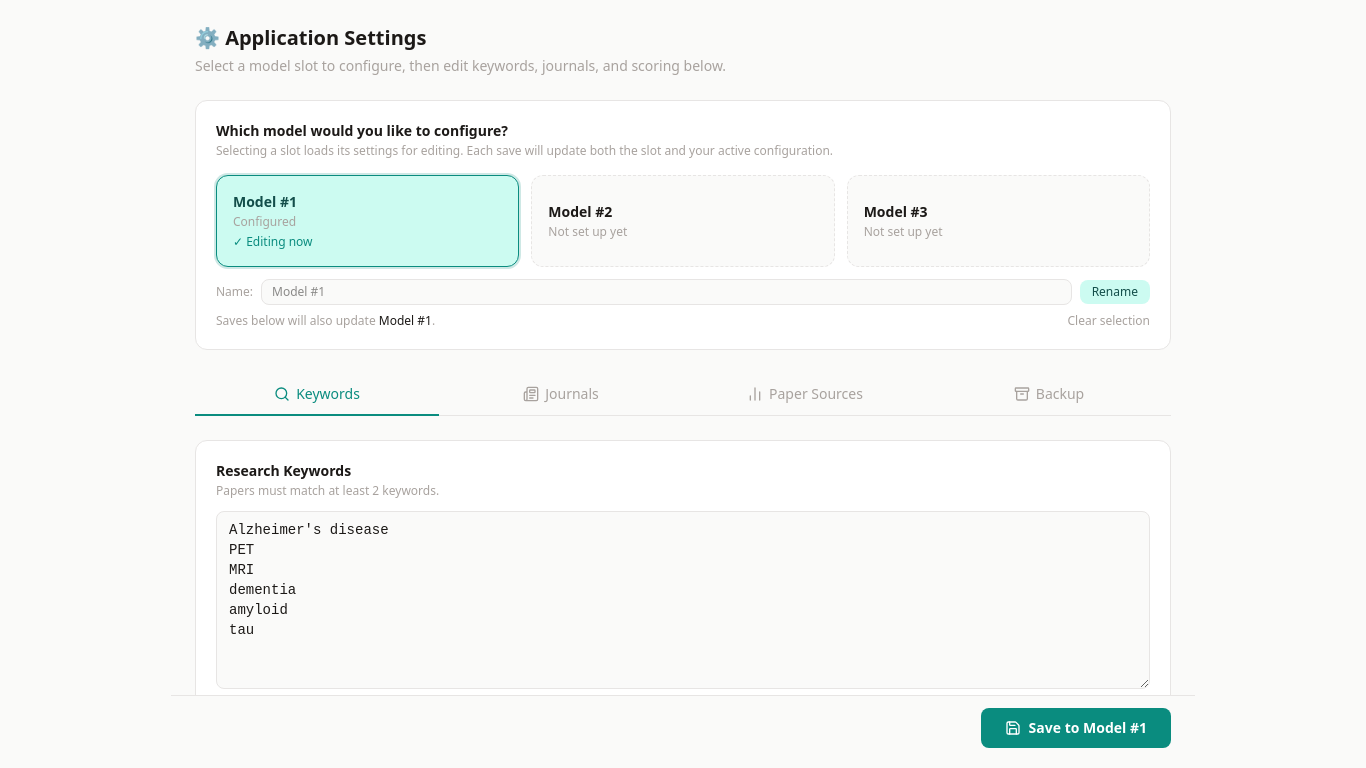
Test: SettingsTab › switches to Journals sub-tab
Click the button "Model #1 Configured ✓ Editing now". click: (265, 202)
box: x1=216 y1=175 x2=519 y2=267
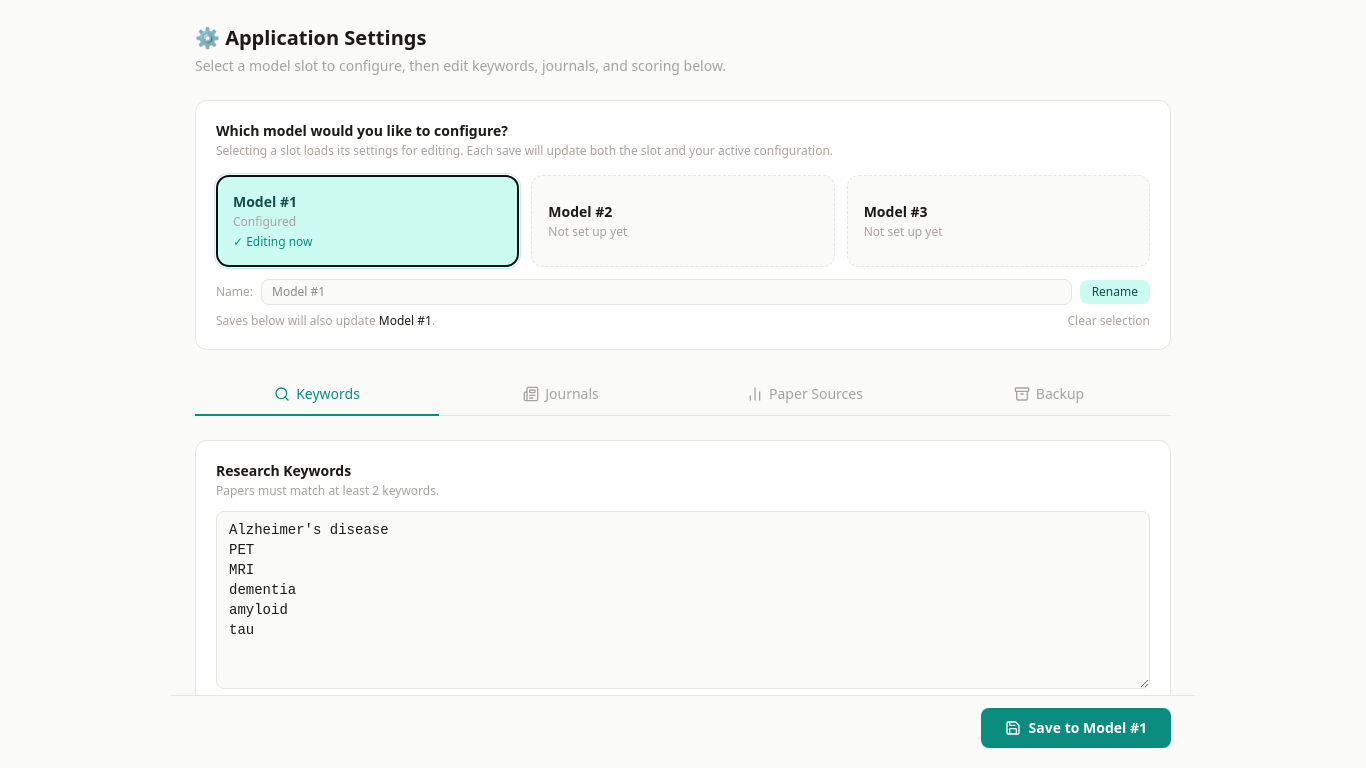
Expected: the button "Keywords" is shown, x1=195 y1=374 x2=439 y2=416
Click the button "Journals". click: (561, 395)
box: x1=439 y1=374 x2=683 y2=416
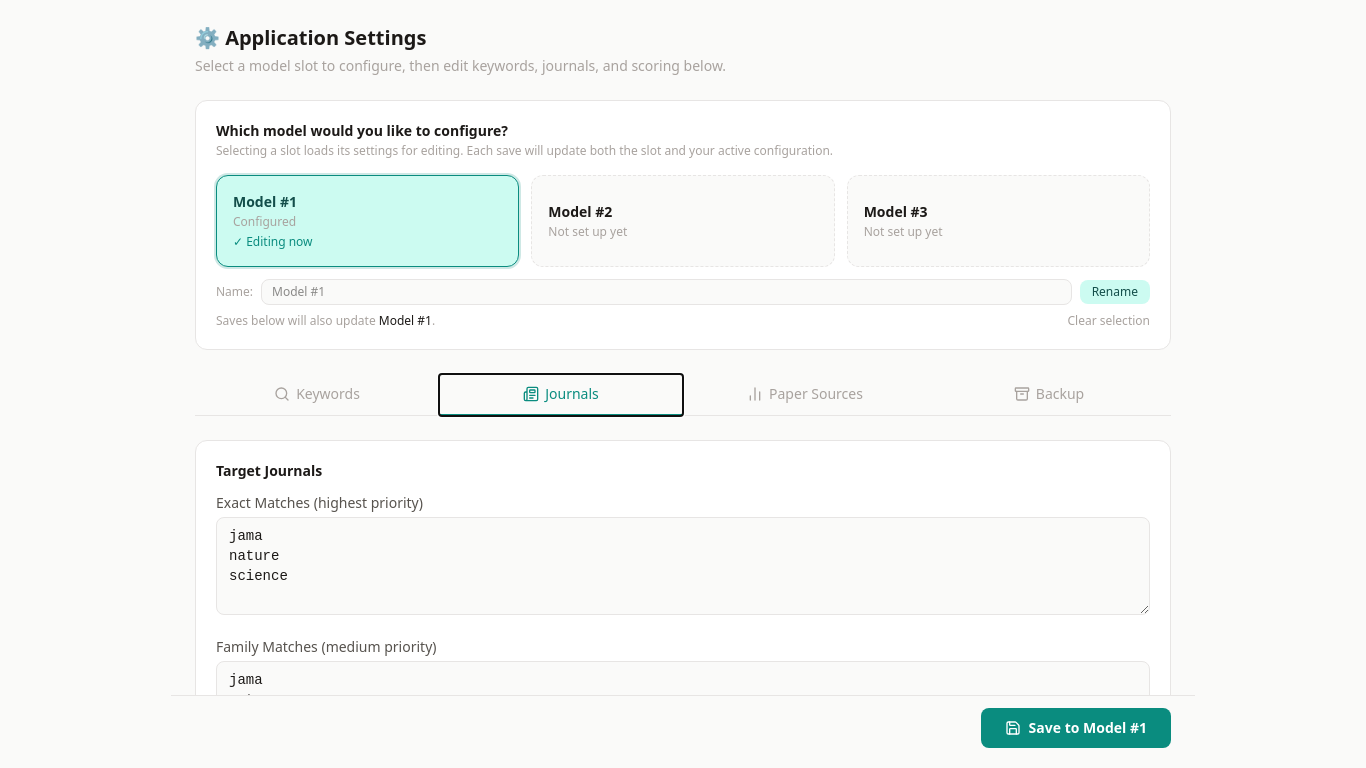
Expected: the heading "Target Journals" is shown, x1=216 y1=461 x2=322 y2=480
Expected: the text "Exact Matches (highest priority)" is shown, x1=216 y1=493 x2=423 y2=512
